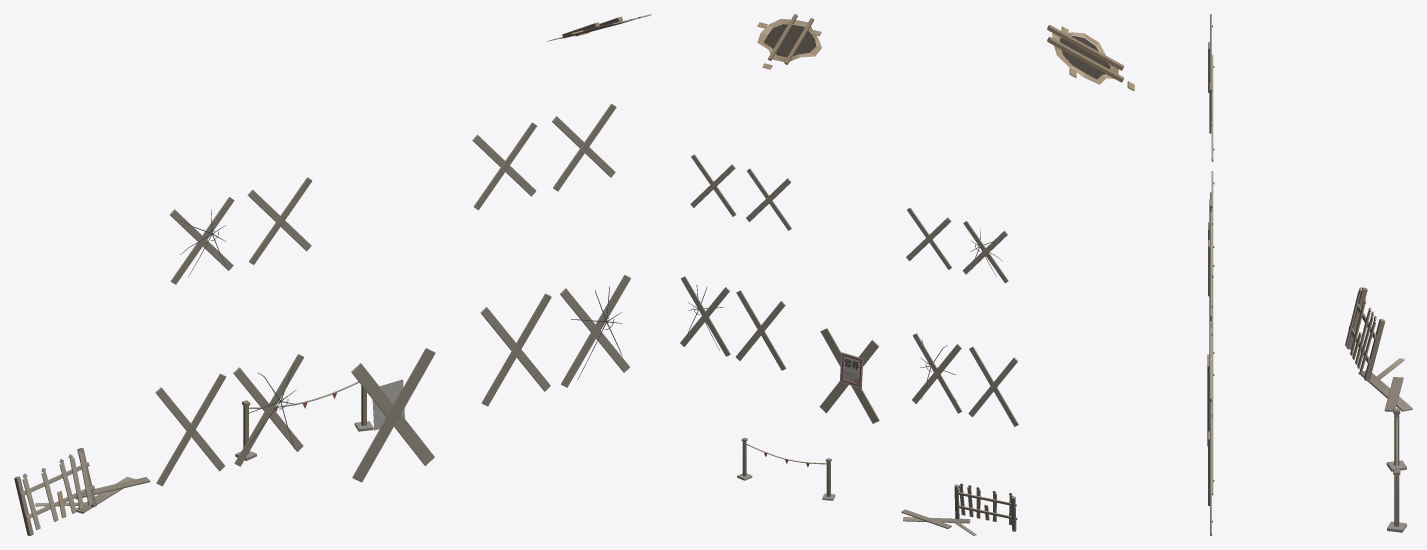
Rendered from house_seized_manor2.glb.
3 views of the same model, side by side, from view 1: azimuth 30°, elevation 25°; view 2: azimuth 150°, elevation 25°; view 3: azimuth 270°, elevation 25° (orthographic). The views are drawn at different scales.
Bounding box in the file's own units: 9.65 × 8.72 × 5.31.
